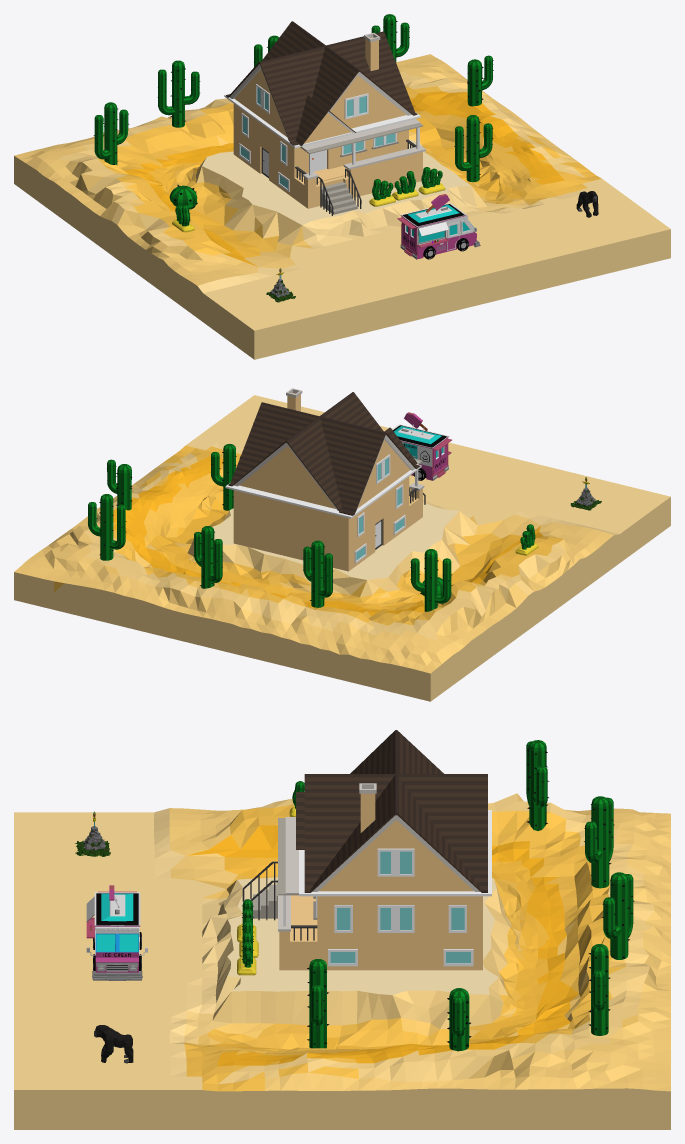
3 views of the same model, one above another, from view 1: azimuth 30°, elevation 25°; view 2: azimuth 150°, elevation 25°; view 3: azimuth 270°, elevation 25° (orthographic). The views are drawn at different scales.
Visible parts, largest first — view 1: Cube.001, Cube.235, VEHICLES_ICE_CREAM_TRUCK, Cylinder.037, Cylinder.044, Cylinder.045, Cylinder.038, Cylinder.042, Cylinder.039, Cylinder.041, Sphere.023, Cylinder.040; view 2: Cube.001, Cube.235, VEHICLES_ICE_CREAM_TRUCK, Cylinder.042, Cylinder.045, Cylinder.044, Cylinder.043, Cylinder.037, Cylinder.038; view 3: Cube.001, Cube.235, VEHICLES_ICE_CREAM_TRUCK, Cylinder.043, Cylinder.044, Cylinder.045, Cylinder.042, Cylinder.037, Cylinder.038, ANIMAL_GORILA, OBJRANDOM_SWORD_IN_THE_STONE, Cylinder.041.
Part boxes in pixels (box(x1,y1,x2,y2)): Cube.001: box(14, 54, 670, 359); Cube.235: box(224, 21, 425, 215); VEHICLES_ICE_CREAM_TRUCK: box(397, 194, 480, 259); Cylinder.037: box(454, 115, 493, 182); Cylinder.044: box(157, 60, 200, 127); Cylinder.045: box(93, 102, 129, 164); Cylinder.038: box(467, 55, 493, 106); Cylinder.042: box(371, 14, 409, 62); Cylinder.039: box(369, 179, 395, 206); Cylinder.041: box(418, 167, 445, 194); Sphere.023: box(169, 184, 197, 209); Cylinder.040: box(392, 171, 418, 200); Cube.001: box(14, 395, 670, 701); Cube.235: box(225, 388, 425, 571); VEHICLES_ICE_CREAM_TRUCK: box(392, 412, 451, 480); Cylinder.042: box(88, 494, 126, 560); Cylinder.045: box(410, 549, 452, 611); Cylinder.044: box(303, 540, 333, 607); Cylinder.043: box(193, 526, 222, 588); Cylinder.037: box(211, 444, 240, 510); Cylinder.038: box(107, 459, 131, 510); Cube.001: box(14, 793, 670, 1129); Cube.235: box(242, 730, 491, 970); VEHICLES_ICE_CREAM_TRUCK: box(86, 885, 147, 980); Cylinder.043: box(602, 872, 634, 959); Cylinder.044: box(584, 796, 614, 888); Cylinder.045: box(526, 740, 549, 830); Cylinder.042: box(588, 944, 610, 1035); Cylinder.037: box(307, 959, 329, 1048); Cylinder.038: box(447, 988, 471, 1051); ANIMAL_GORILA: box(94, 1025, 133, 1063); OBJRANDOM_SWORD_IN_THE_STONE: box(75, 811, 110, 856); Cylinder.041: box(237, 932, 256, 975).
Size of the model in its own units: 4002 by 1600 by 4001.
Materials: 43 (2 with a texture image).
